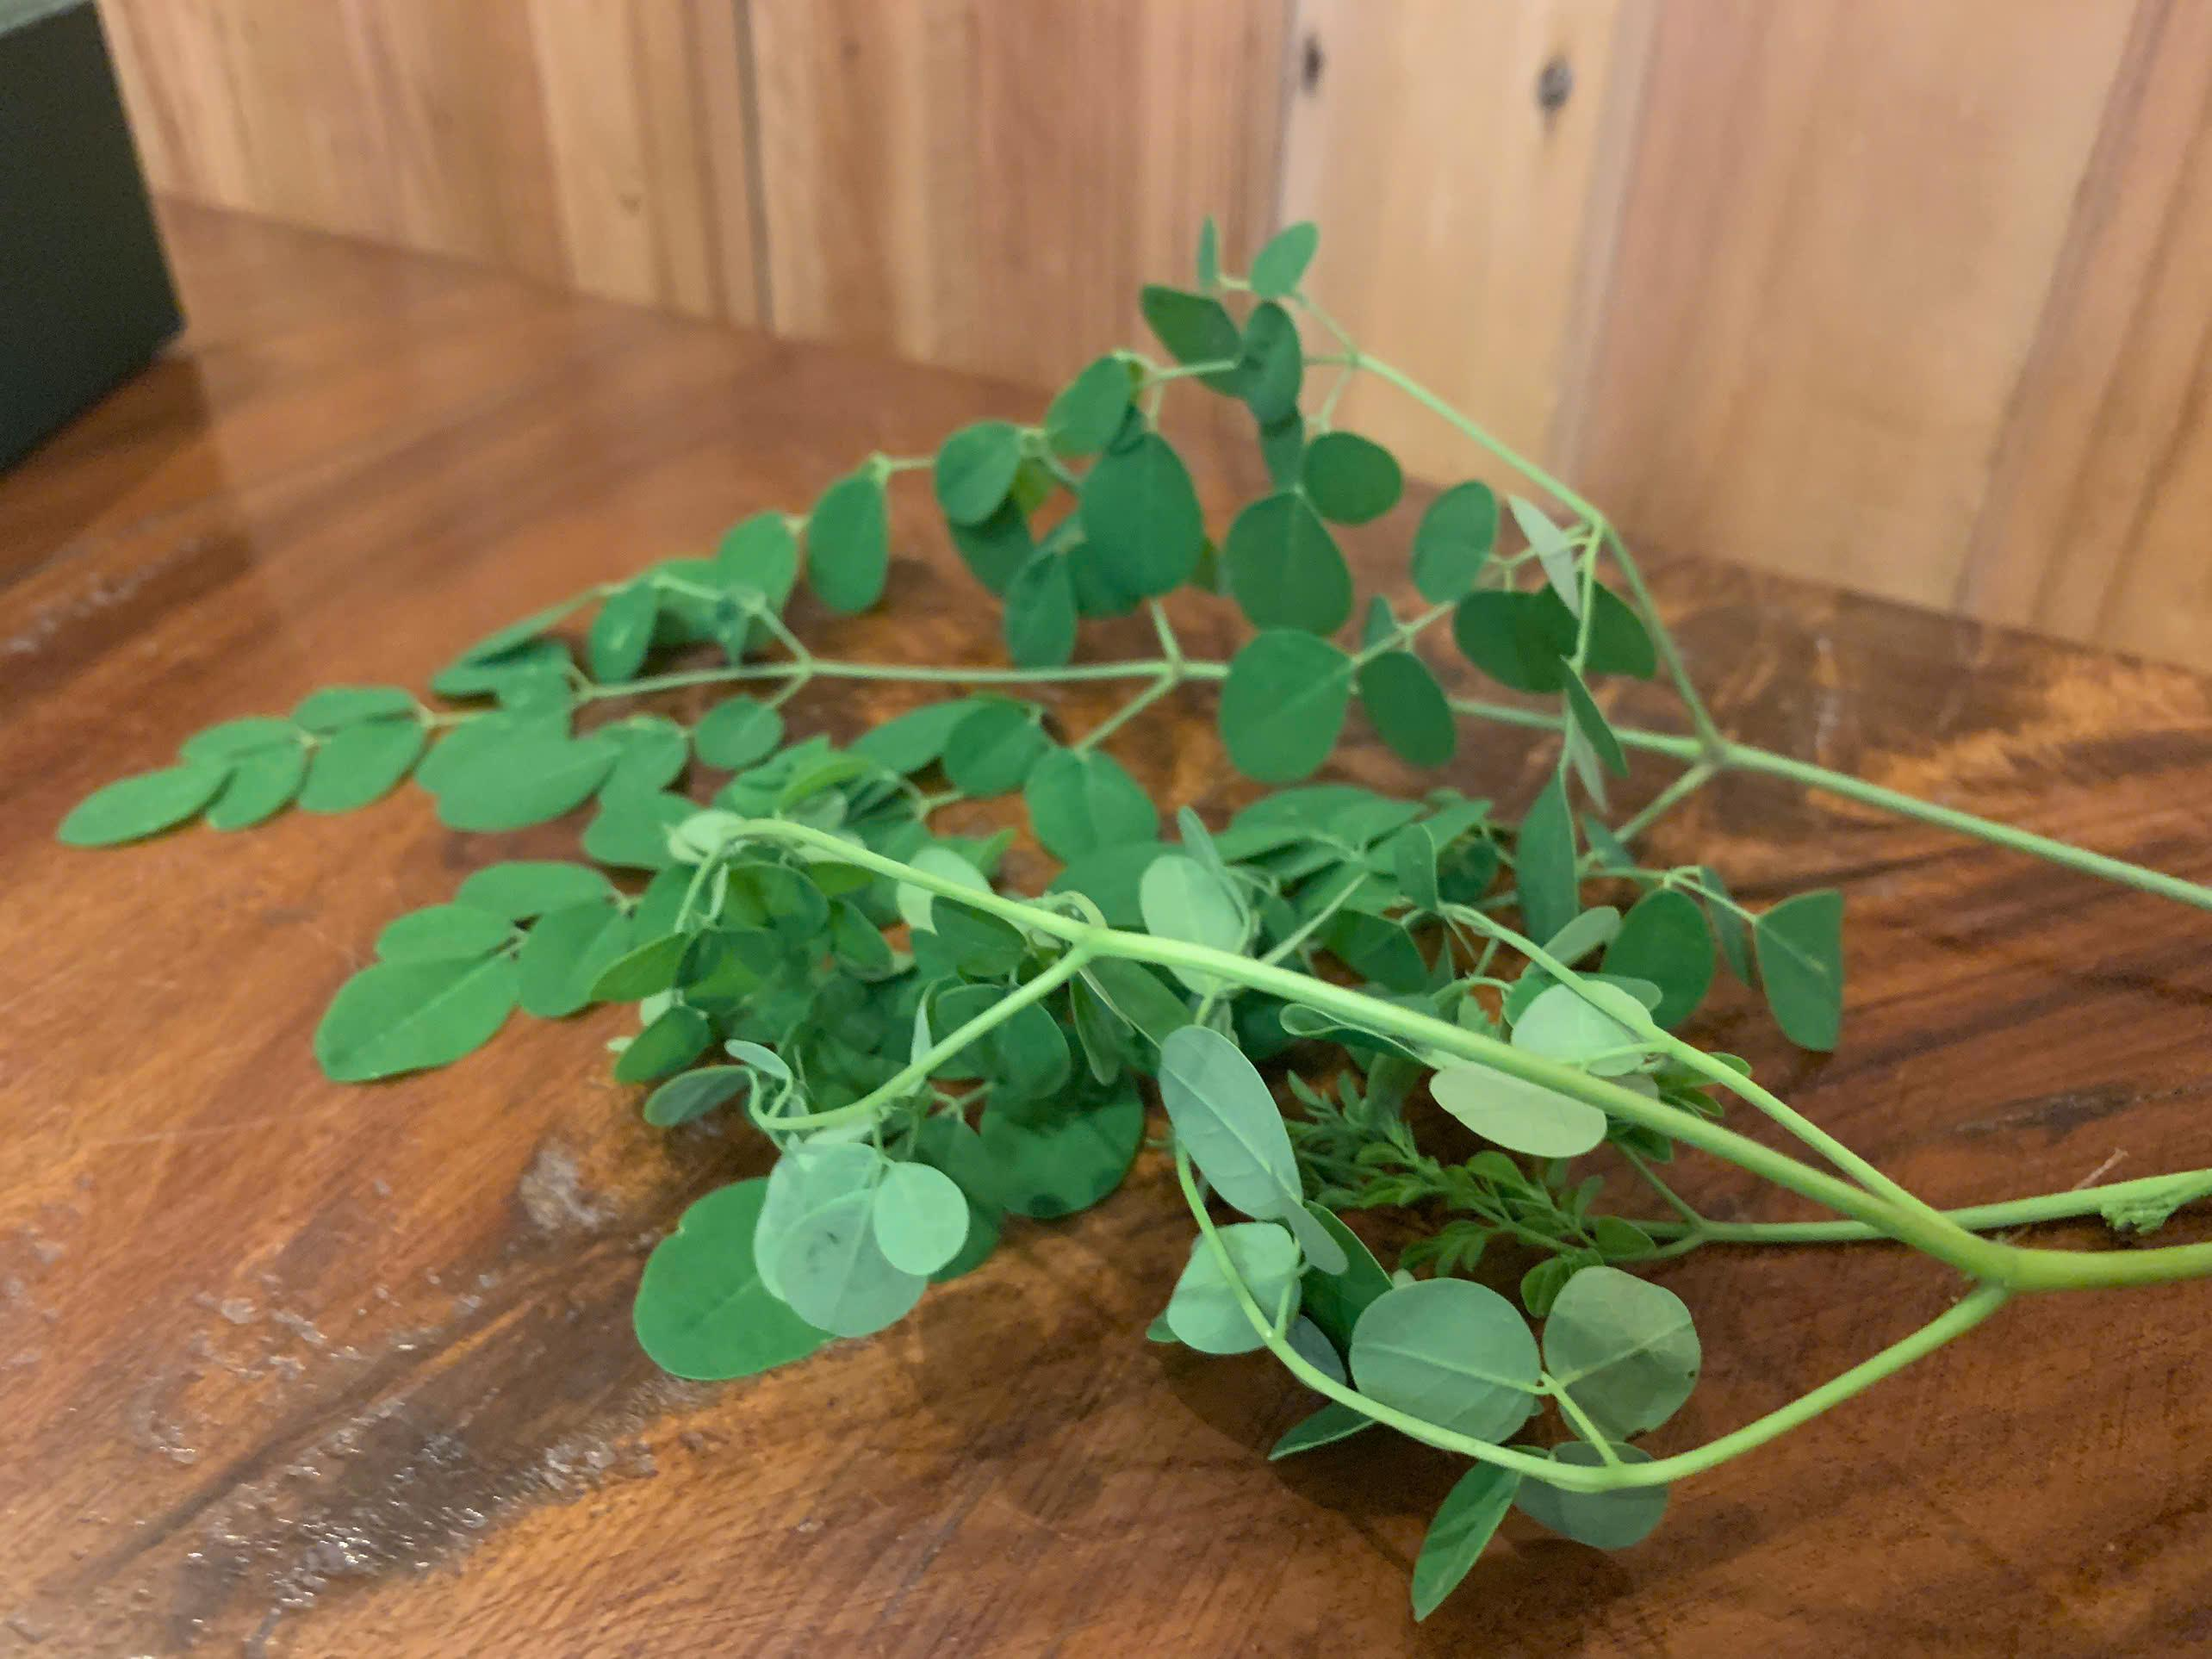Huu co: (333, 300, 2043, 1495)
